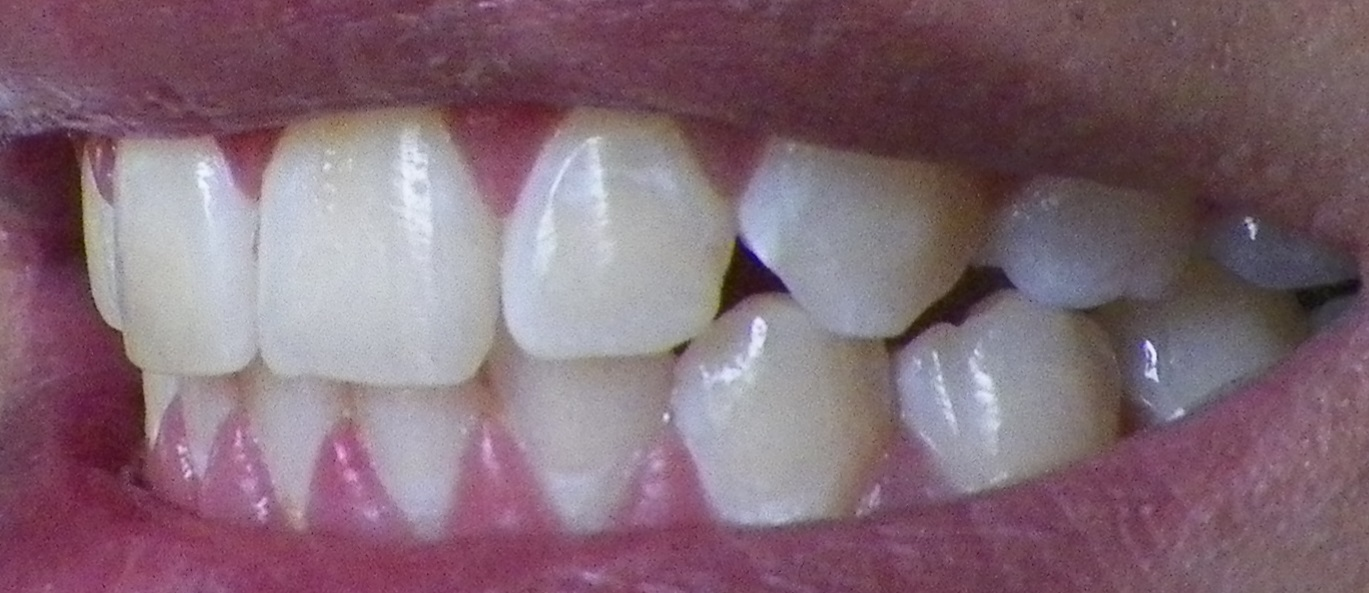boca: (66, 120, 1312, 519)
